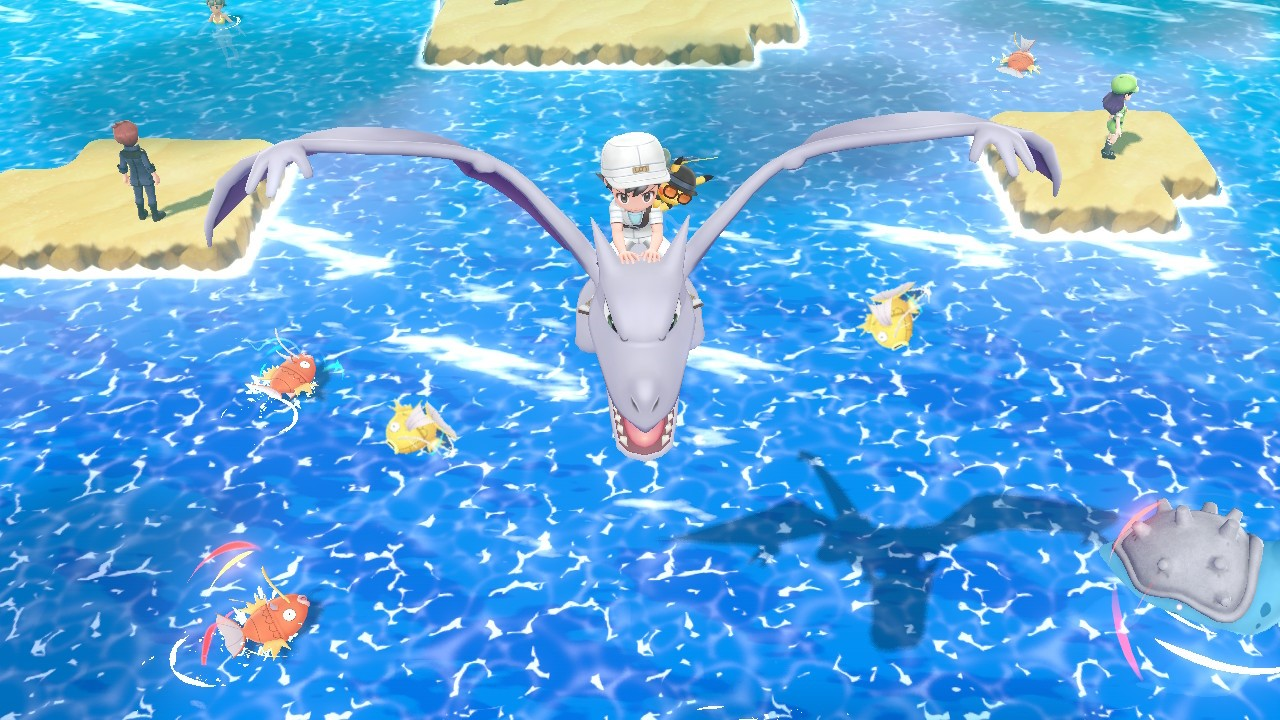Golden: (380, 396, 459, 458), (859, 283, 923, 353)
